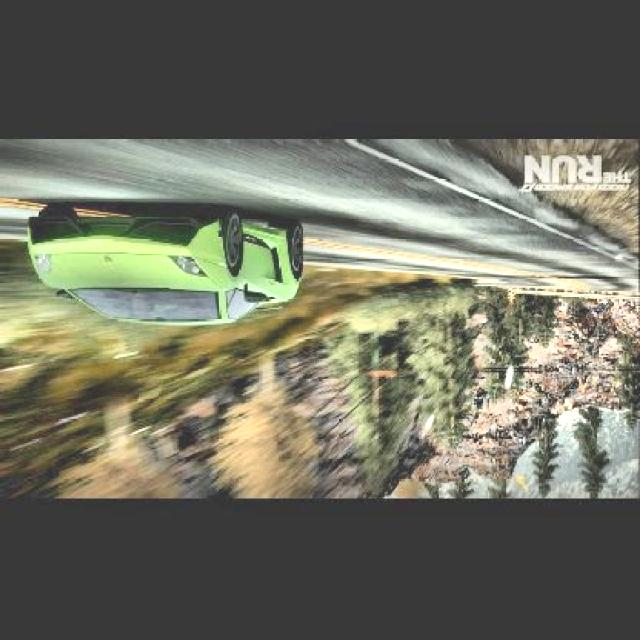green: (26, 202, 304, 328)
